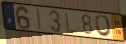3: (48, 8, 62, 33)
6: (15, 5, 32, 31)
8: (81, 14, 94, 36)
I: (36, 7, 43, 32)
L: (64, 11, 79, 35)
O: (94, 15, 113, 38)
